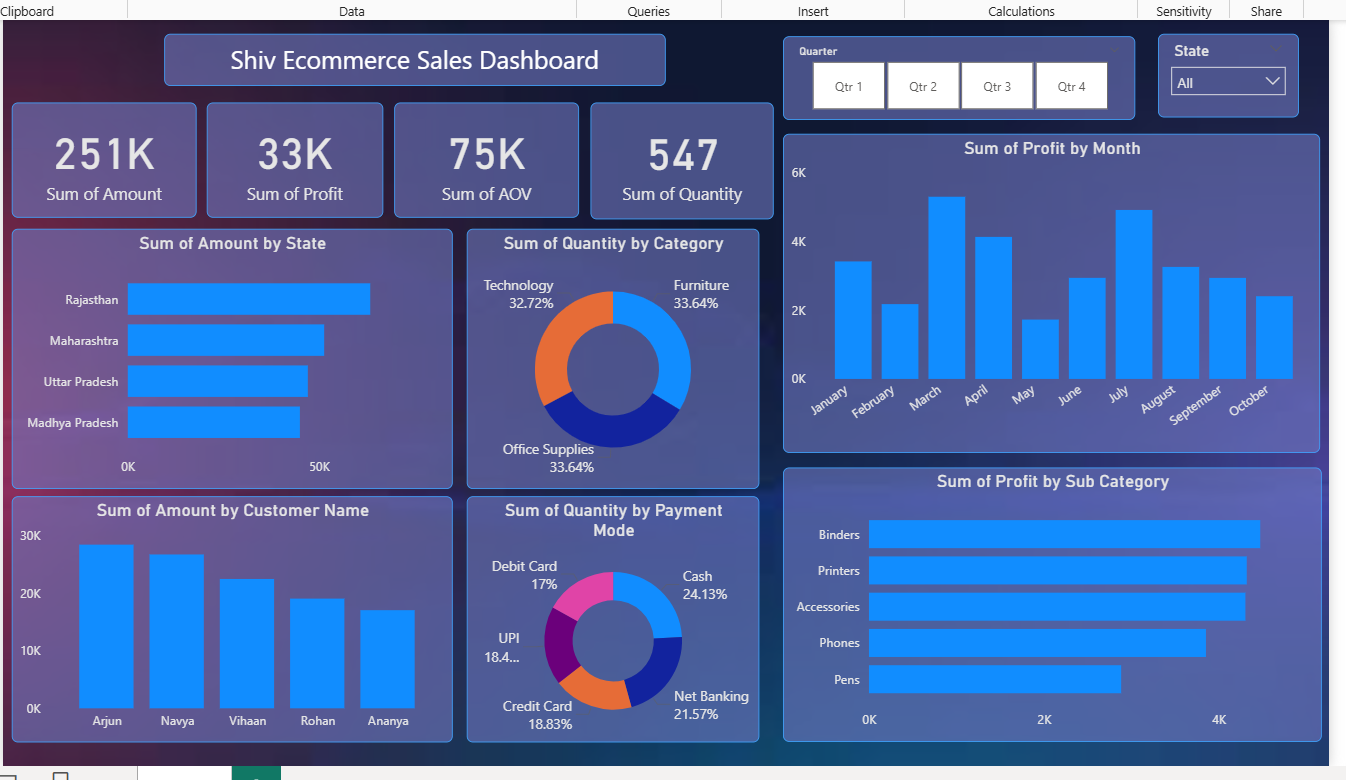

What the dashboard file says about the page in this screenshot:
{"tool":"powerbi","page":{"name":"Page 1","canvas":[1280,720],"ordinal":0},"visuals":[{"type":"textbox","box":[155.6,13.3,483.8,50.7],"z":0},{"type":"clusteredColumnChart","fields":{"Y":["sale_data.Profit"],"Category":["order_data.Order Date.Variation.Date Hierarchy.Month"]},"box":[752.8,109.8,518.8,307.6],"z":1000},{"type":"clusteredBarChart","fields":{"Category":["sale_data.Sub Category"],"Y":["sale_data.Profit"]},"box":[753.3,432.2,520.1,264.8],"z":2000},{"type":"donutChart","fields":{"Category":["sale_data.Category"],"Y":["sale_data.Quantity"]},"box":[447.6,201.5,282.3,250.9],"z":3000},{"type":"donutChart","fields":{"Category":["sale_data.Payment Mode"],"Y":["sale_data.Quantity"]},"box":[447.3,459.7,282.7,237.4],"z":4000},{"type":"card","fields":{"Values":["sale_data.Amount"]},"box":[8.2,79.6,178.4,111.1],"z":5000},{"type":"card","fields":{"Values":["sale_data.Profit"]},"box":[196.2,79.6,170.2,111.1],"z":6000},{"type":"card","fields":{"Values":["sale_data.Quantity"]},"box":[566.7,79.6,177,112.5],"z":7000},{"type":"card","fields":{"Values":["sale_data.AOV"]},"box":[377.4,79.6,178.4,111.1],"z":8000},{"type":"clusteredBarChart","fields":{"Category":["order_data.State"],"Y":["sale_data.Amount"]},"box":[8.2,201.7,425.4,251.1],"z":9000},{"type":"columnChart","fields":{"Category":["order_data.Customer Name"],"Y":["sale_data.Amount"]},"box":[8.4,459.7,425.9,237.7],"z":10000},{"type":"slicer","fields":{"Values":["order_data.Order Date.Variation.Date Hierarchy.Quarter"]},"box":[753.3,15.1,340.3,81],"z":11000},{"type":"slicer","fields":{"Values":["order_data.State"]},"box":[1114.2,13.7,135.8,81],"z":12000}]}

Visuals, with their boxes in screenshot pixels (x1, y1, x2, y2):
textbox: {"x1": 161, "y1": 56, "x2": 663, "y2": 108}
clusteredColumnChart - sale_data.Profit x order_data.Order Date.Variation.Date Hierarchy.Month: {"x1": 781, "y1": 156, "x2": 1319, "y2": 475}
clusteredBarChart - sale_data.Sub Category x sale_data.Profit: {"x1": 781, "y1": 490, "x2": 1321, "y2": 765}
donutChart - sale_data.Category x sale_data.Quantity: {"x1": 464, "y1": 251, "x2": 757, "y2": 511}
donutChart - sale_data.Payment Mode x sale_data.Quantity: {"x1": 464, "y1": 519, "x2": 757, "y2": 765}
card - sale_data.Amount: {"x1": 9, "y1": 125, "x2": 194, "y2": 240}
card - sale_data.Profit: {"x1": 203, "y1": 125, "x2": 380, "y2": 240}
card - sale_data.Quantity: {"x1": 588, "y1": 125, "x2": 771, "y2": 241}
card - sale_data.AOV: {"x1": 391, "y1": 125, "x2": 576, "y2": 240}
clusteredBarChart - order_data.State x sale_data.Amount: {"x1": 9, "y1": 251, "x2": 450, "y2": 512}
columnChart - order_data.Customer Name x sale_data.Amount: {"x1": 9, "y1": 519, "x2": 450, "y2": 765}
slicer - order_data.Order Date.Variation.Date Hierarchy.Quarter: {"x1": 781, "y1": 58, "x2": 1134, "y2": 142}
slicer - order_data.State: {"x1": 1155, "y1": 56, "x2": 1296, "y2": 140}
